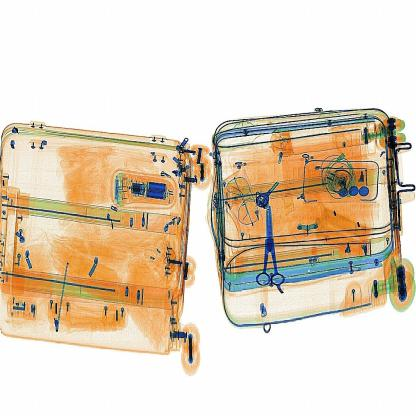gun: (246, 190, 300, 301)
